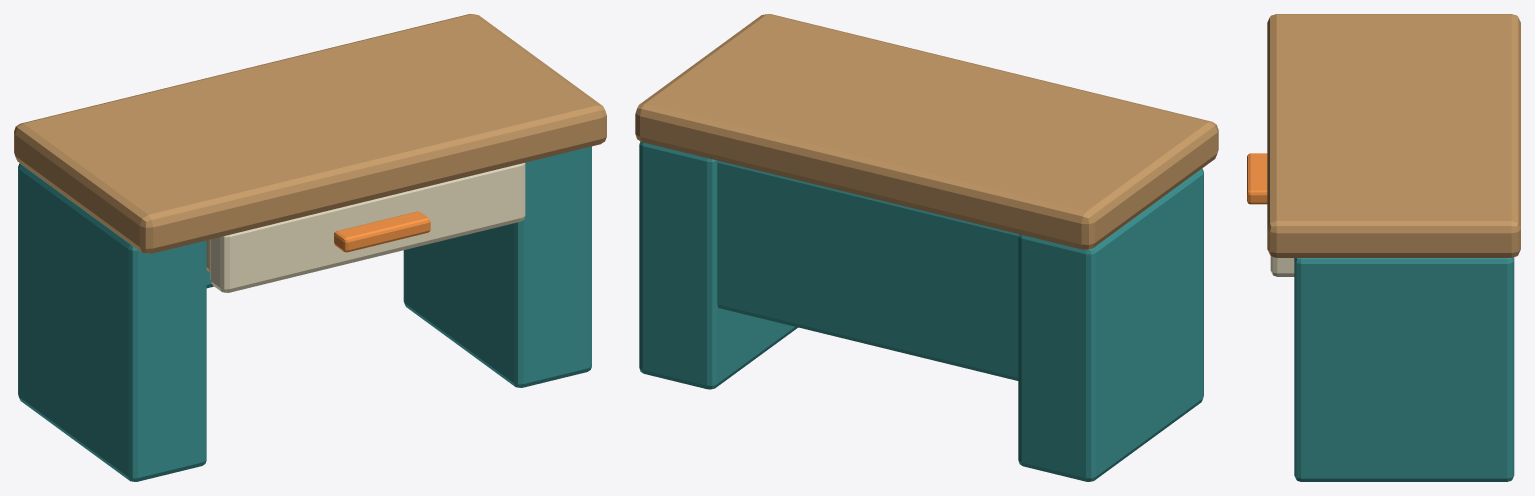
The model's file is S031_writing_desk.glb.
The picture shows the model from 3 angles, left to right: view 1: azimuth 30°, elevation 25°; view 2: azimuth 150°, elevation 25°; view 3: azimuth 270°, elevation 25°; orthographic projection. The views are drawn at different scales.
Visible parts, largest first — view 1: desktop, desk_pedestal, desk_pedestal.001, drawer_face, drawer_handle; view 2: desktop, desk_back, desk_pedestal, desk_pedestal.001; view 3: desktop, desk_pedestal.001, drawer_handle, drawer_face.
Part boxes in pixels (x1,y1,x2,y2): desktop: [14, 14, 606, 253]; desk_pedestal: [18, 163, 206, 481]; desk_pedestal.001: [403, 146, 591, 387]; drawer_face: [210, 163, 525, 292]; drawer_handle: [334, 211, 430, 252]; desktop: [635, 14, 1218, 249]; desk_back: [717, 161, 1018, 380]; desk_pedestal: [1018, 168, 1203, 481]; desk_pedestal.001: [639, 141, 797, 389]; desktop: [1267, 14, 1520, 257]; desk_pedestal.001: [1294, 257, 1514, 481]; drawer_handle: [1247, 153, 1267, 204]; drawer_face: [1270, 256, 1294, 276].
Size of the model in its own units: 1.5 by 0.85 by 0.81.
